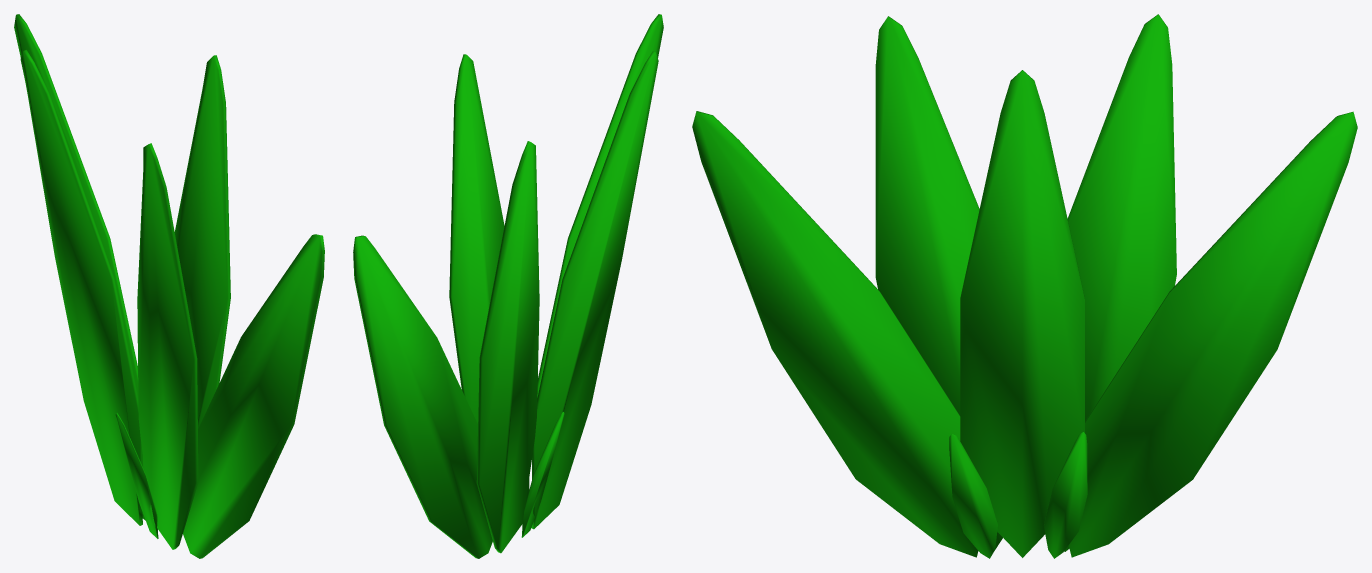
File: hierba.fbx
The picture shows the model from 3 angles, left to right: view 1: azimuth 30°, elevation 25°; view 2: azimuth 150°, elevation 25°; view 3: azimuth 270°, elevation 25°; orthographic projection. The views are drawn at different scales.
Visible parts, largest first — view 1: hierba; view 2: hierba; view 3: hierba.
Part boxes in pixels (<box>): hierba: <box>14,14,324,558</box>; hierba: <box>353,14,663,558</box>; hierba: <box>692,14,1357,558</box>.
Bounding box in the file's own units: 5.26 × 18.17 × 21.46.
